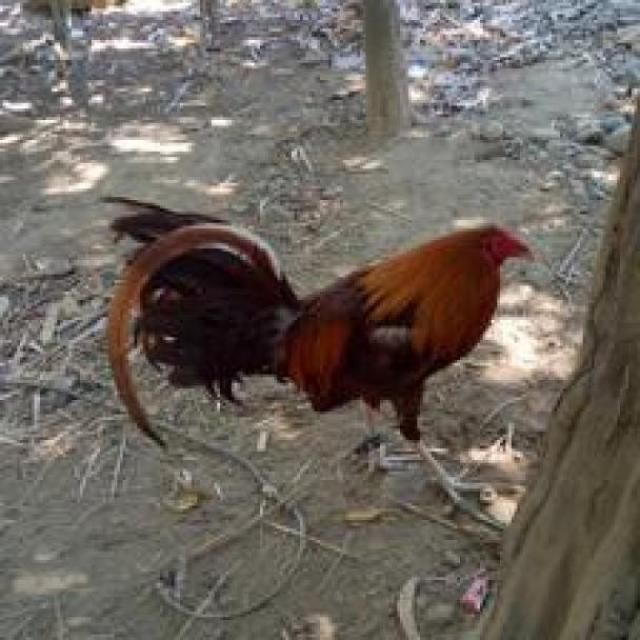Chicken: (96, 176, 555, 524)
